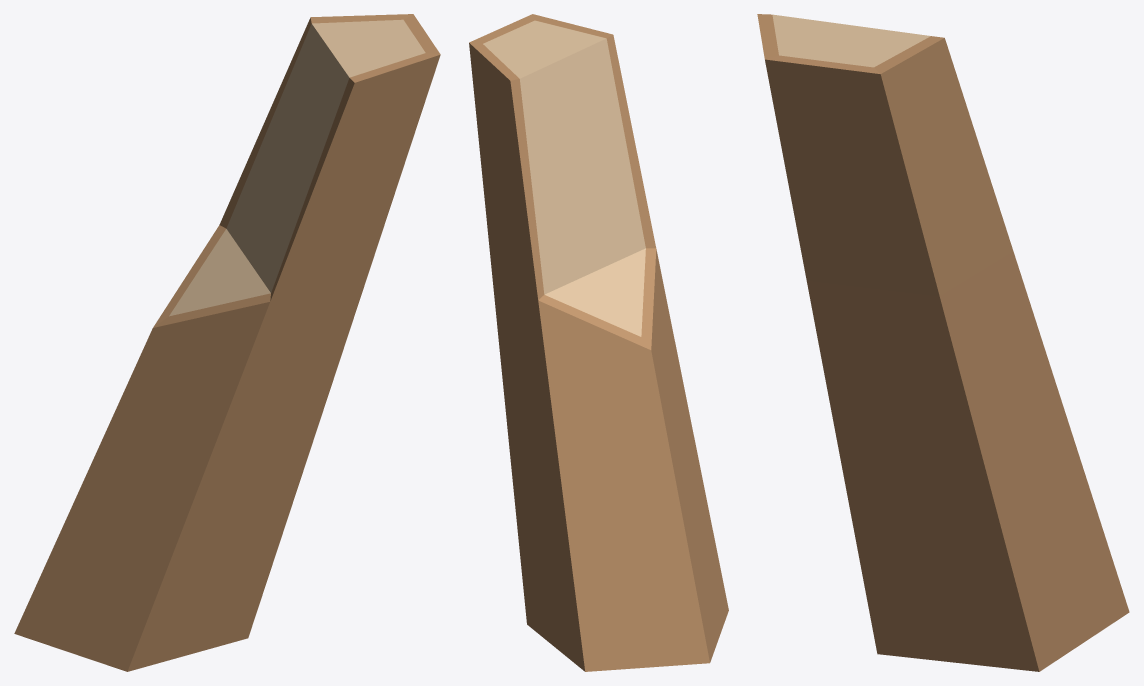
Rendered from Palm_Stump_02.fbx.
The picture shows the model from 3 angles, left to right: view 1: azimuth 30°, elevation 25°; view 2: azimuth 150°, elevation 25°; view 3: azimuth 270°, elevation 25°; orthographic projection. The views are drawn at different scales.
Visible parts, largest first — view 1: Palm_Stump_02; view 2: Palm_Stump_02; view 3: Palm_Stump_02.
Boxes of the visible parts, box(x1,y1,x2,y2) form: Palm_Stump_02: box(14, 14, 440, 671); Palm_Stump_02: box(469, 14, 728, 671); Palm_Stump_02: box(757, 14, 1129, 671).
Size of the model in its own units: 66.16 by 109 by 54.64.
